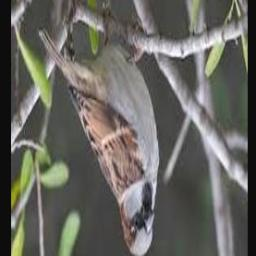Sparrow: (39, 26, 160, 256)
